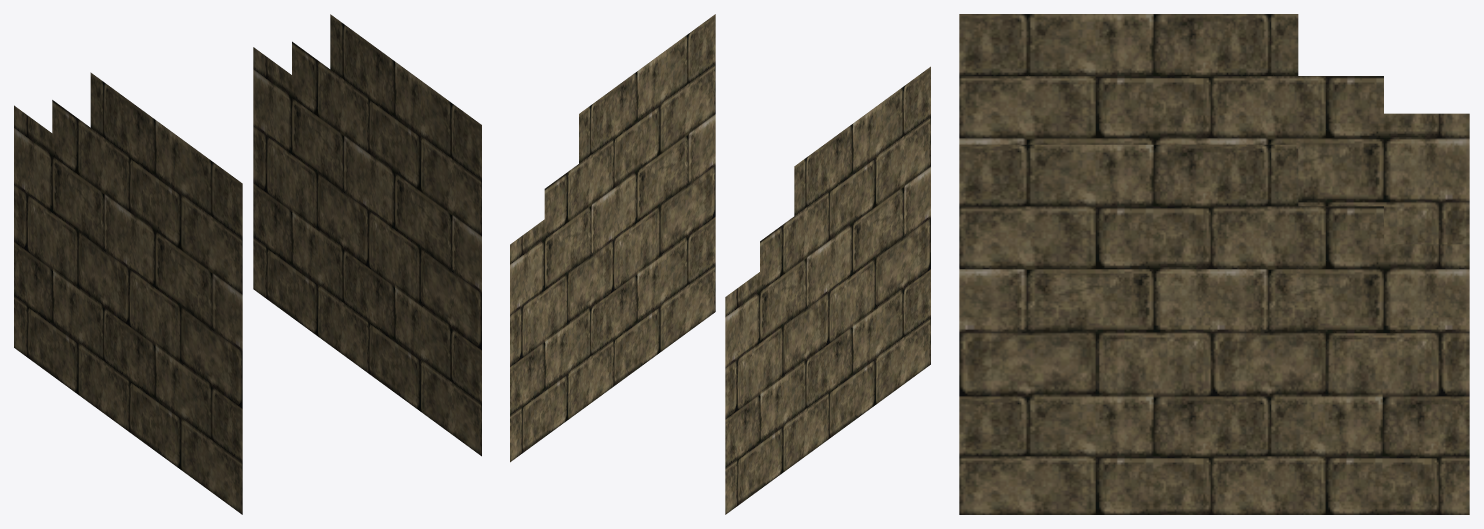
The model's file is OVERHILL_A_01_OBJECT200.fbx.
3 renders of one model, left to right at view 1: azimuth 30°, elevation 25°; view 2: azimuth 150°, elevation 25°; view 3: azimuth 270°, elevation 25°, orthographic. The views are drawn at different scales.
Visible parts, largest first — view 1: OVERHILL_A_01_OBJECT200; view 2: OVERHILL_A_01_OBJECT200; view 3: OVERHILL_A_01_OBJECT200.
Part boxes in pixels (left/top/right/bottom): OVERHILL_A_01_OBJECT200: left=14, top=14, right=481, bottom=514; OVERHILL_A_01_OBJECT200: left=510, top=14, right=930, bottom=514; OVERHILL_A_01_OBJECT200: left=959, top=14, right=1469, bottom=514.
Bounding box in the file's own units: 36360 × 48105 × 60091.
1 material, 1 textured.
